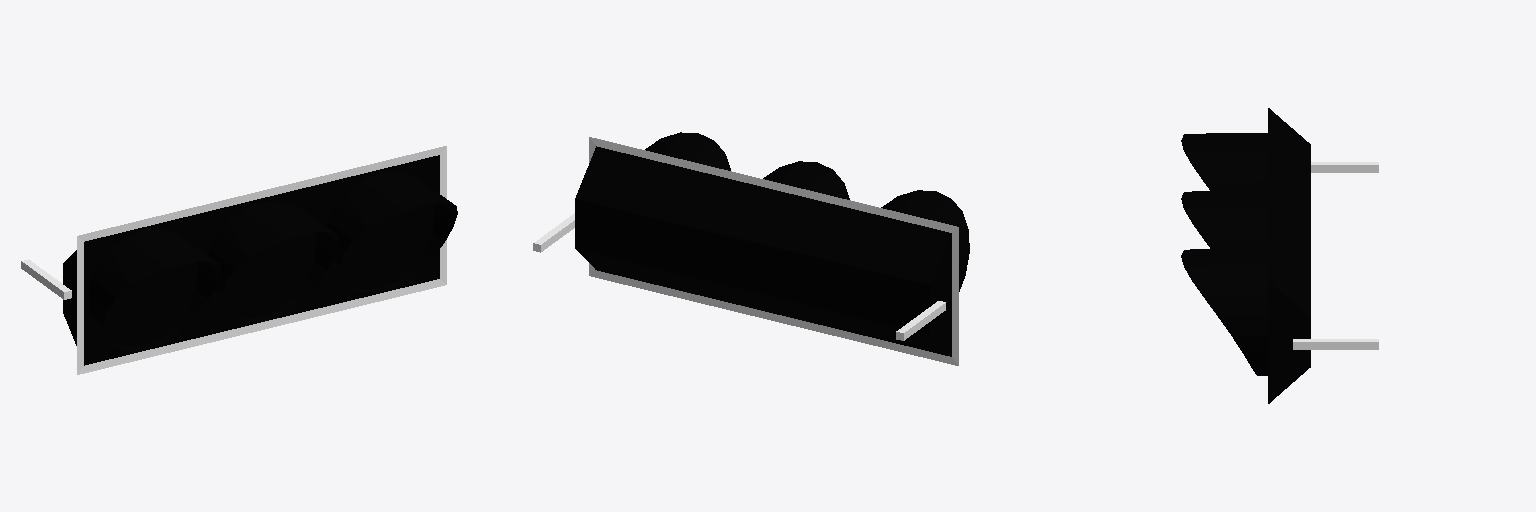
File: TLS3horizontal.obj
3 renders of one model, left to right at view 1: azimuth 30°, elevation 25°; view 2: azimuth 150°, elevation 25°; view 3: azimuth 270°, elevation 25°, orthographic.
Bounding box in the file's own units: 3.12 × 1.12 × 1.45.